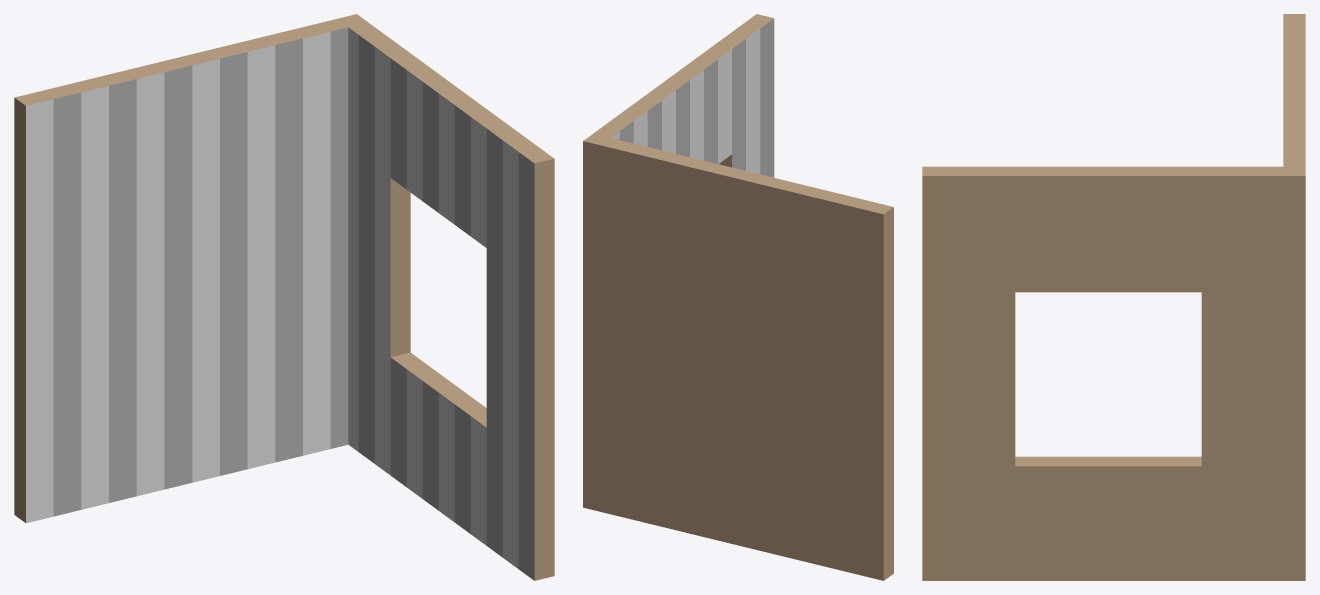
The model's file is Wall2_C8_11.fbx.
3 views of the same model, side by side, from view 1: azimuth 30°, elevation 25°; view 2: azimuth 150°, elevation 25°; view 3: azimuth 270°, elevation 25° (orthographic). The views are drawn at different scales.
Visible parts, largest first — view 1: Wall2_C8_11; view 2: Wall2_C8_11; view 3: Wall2_C8_11.
Part boxes in pixels (box(x1,y1,x2,y2)): Wall2_C8_11: box(14, 14, 554, 580); Wall2_C8_11: box(583, 14, 893, 580); Wall2_C8_11: box(922, 14, 1305, 580).
Size of the model in its own units: 258 by 300 by 258.
